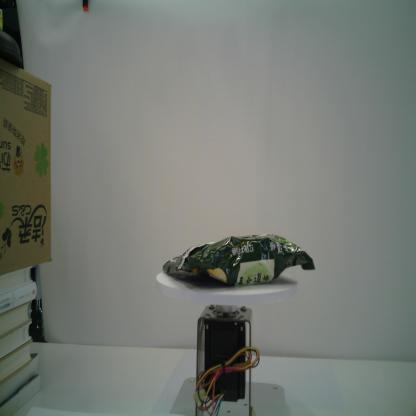Instant Noodles: (160, 228, 317, 291)
